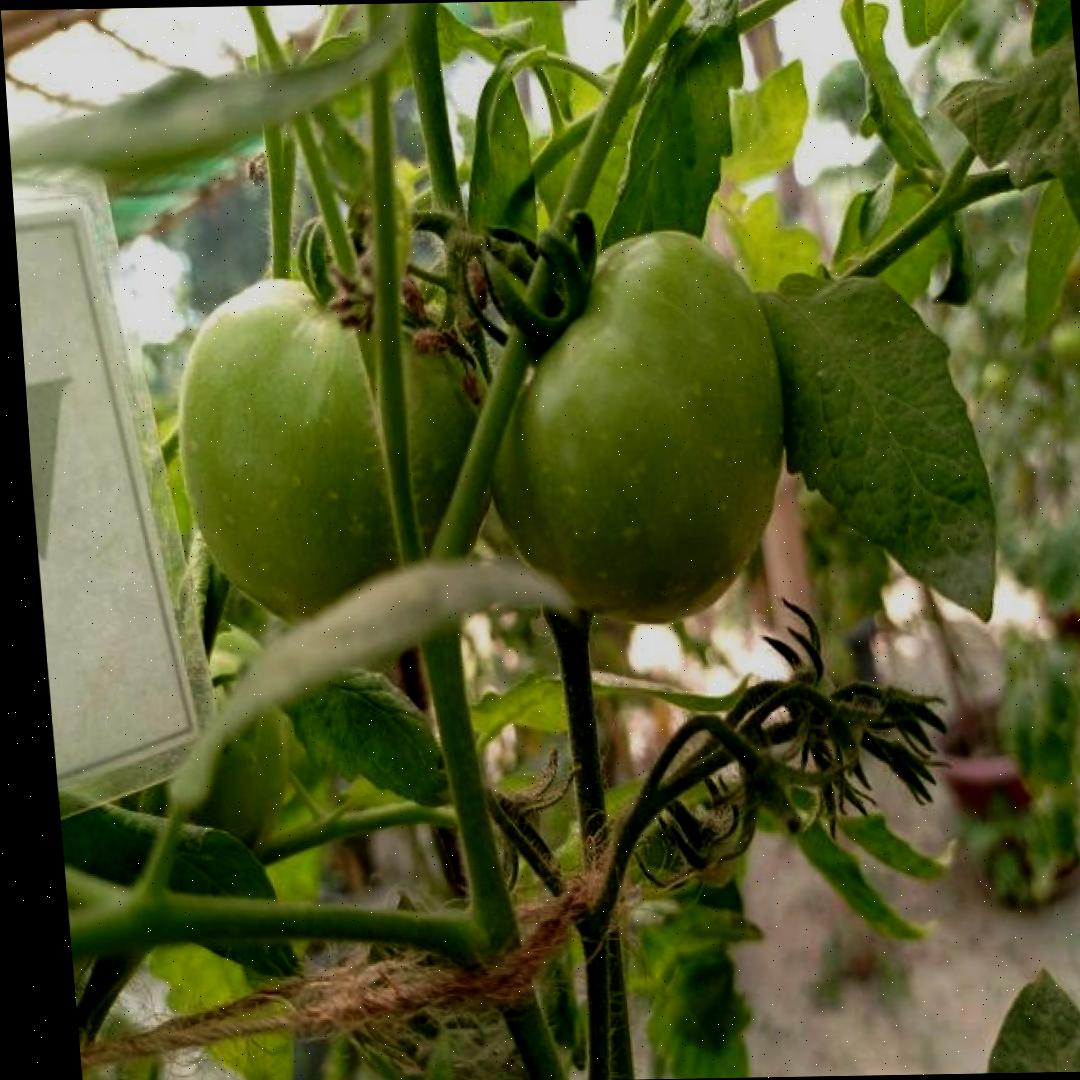mentah: (464, 229, 801, 624), (164, 274, 514, 635)
